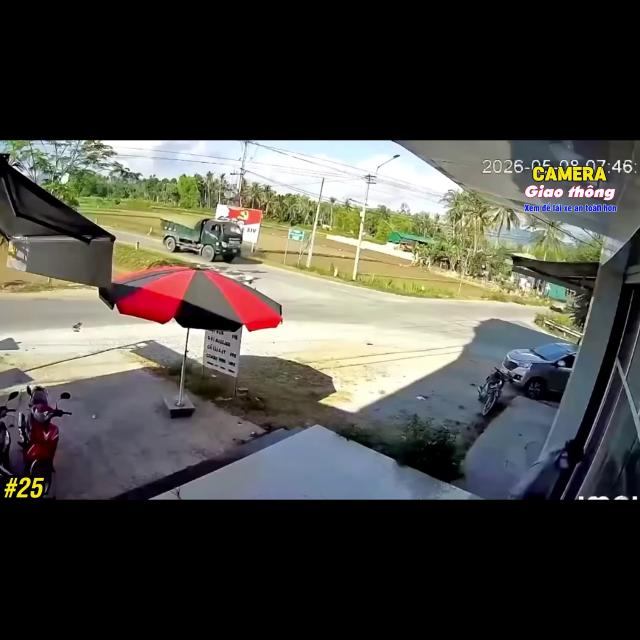car: (501, 343, 577, 399)
motorcycle: (18, 386, 71, 496), (0, 392, 19, 477), (478, 368, 506, 415)
truck: (162, 219, 242, 262)
